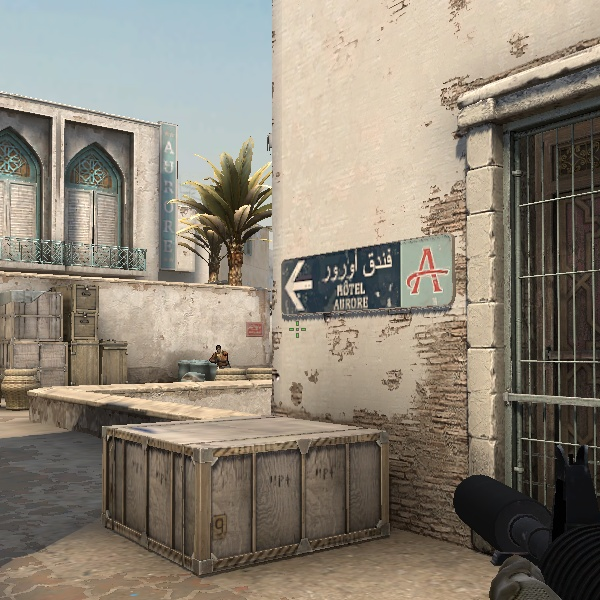t_body: (210, 344, 231, 368)
t_head: (216, 344, 222, 355)
